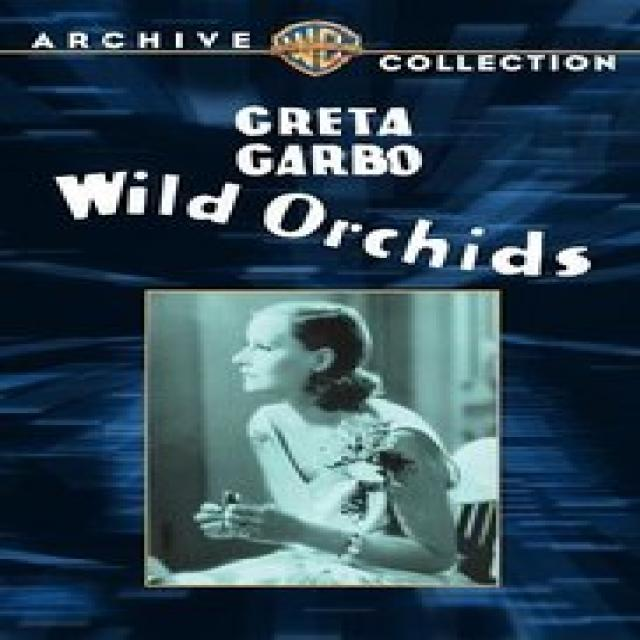movie-judul: (20, 68, 625, 283)
picture: (145, 291, 498, 589)
